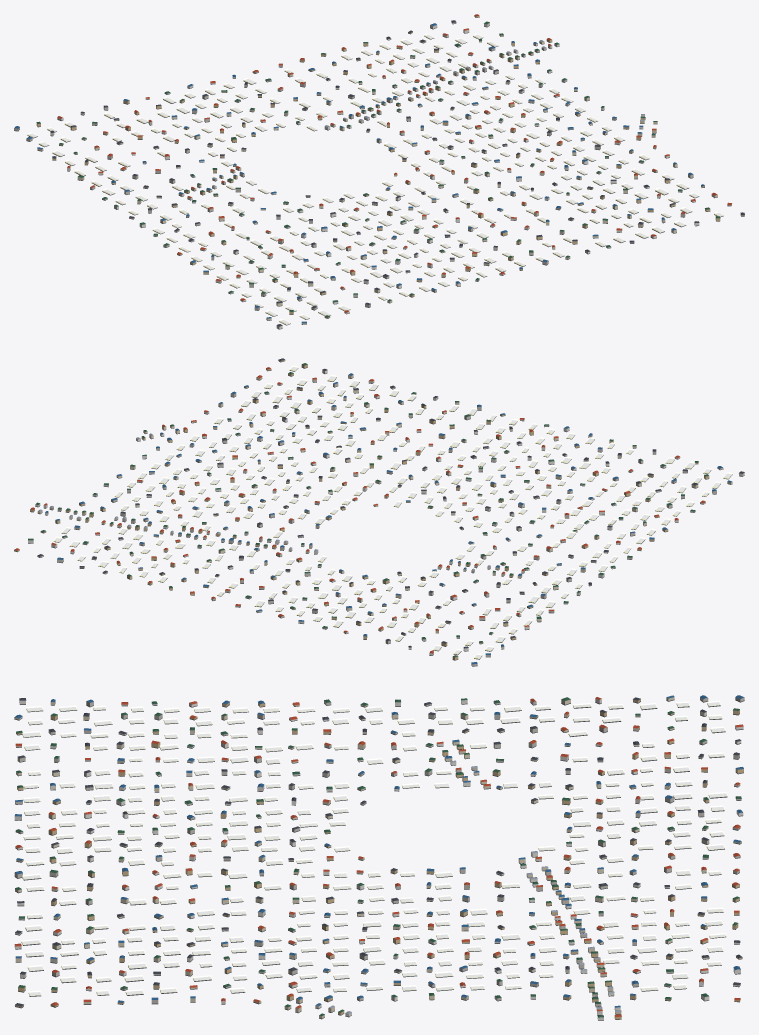
The model's file is buildings_T_W07_N07.glb.
The picture shows the model from 3 angles, top to bottom: view 1: azimuth 30°, elevation 25°; view 2: azimuth 150°, elevation 25°; view 3: azimuth 270°, elevation 25°; orthographic projection. The views are drawn at different scales.
Visible parts, largest first — view 1: T_W07_N07_roofs_agri_greenhouse_arch, T_W07_N07_slope_seating_foundations, T_W07_N07_walls_wall_french_ochre_villa, T_W07_N07_walls_wall_dalat_cream_stucco, T_W07_N07_walls_wall_pastel_sand_gray, T_W07_N07_walls_wall_modern_warm_white, T_W07_N07_roofs_roof_terracotta_gable, T_W07_N07_roofs_roof_highland_blue_gable, T_W07_N07_roofs_roof_pine_green_hip, T_W07_N07_roofs_roof_slate_French_villa_hip; view 2: T_W07_N07_roofs_agri_greenhouse_arch, T_W07_N07_slope_seating_foundations, T_W07_N07_walls_wall_french_ochre_villa, T_W07_N07_walls_wall_dalat_cream_stucco, T_W07_N07_walls_wall_pastel_sand_gray, T_W07_N07_walls_wall_modern_warm_white, T_W07_N07_roofs_roof_terracotta_gable, T_W07_N07_roofs_roof_highland_blue_gable, T_W07_N07_roofs_roof_pine_green_hip, T_W07_N07_roofs_roof_slate_French_villa_hip; view 3: T_W07_N07_roofs_agri_greenhouse_arch, T_W07_N07_slope_seating_foundations, T_W07_N07_walls_wall_french_ochre_villa, T_W07_N07_walls_wall_dalat_cream_stucco, T_W07_N07_walls_wall_pastel_sand_gray, T_W07_N07_walls_wall_modern_warm_white, T_W07_N07_roofs_roof_terracotta_gable, T_W07_N07_roofs_roof_highland_blue_gable, T_W07_N07_roofs_roof_pine_green_hip, T_W07_N07_roofs_roof_slate_French_villa_hip.
Part boxes in pixels (x1=…): T_W07_N07_roofs_agri_greenhouse_arch: x1=27, y1=33, x2=723, y2=324; T_W07_N07_slope_seating_foundations: x1=14, y1=16, x2=744, y2=329; T_W07_N07_walls_wall_french_ochre_villa: x1=36, y1=15, x2=744, y2=318; T_W07_N07_walls_wall_dalat_cream_stucco: x1=37, y1=41, x2=717, y2=324; T_W07_N07_walls_wall_pastel_sand_gray: x1=14, y1=41, x2=693, y2=310; T_W07_N07_walls_wall_modern_warm_white: x1=50, y1=22, x2=699, y2=329; T_W07_N07_roofs_roof_terracotta_gable: x1=57, y1=14, x2=731, y2=312; T_W07_N07_roofs_roof_highland_blue_gable: x1=14, y1=23, x2=704, y2=323; T_W07_N07_roofs_roof_pine_green_hip: x1=36, y1=21, x2=720, y2=317; T_W07_N07_roofs_roof_slate_French_villa_hip: x1=50, y1=20, x2=744, y2=326; T_W07_N07_roofs_agri_greenhouse_arch: x1=53, y1=365, x2=732, y2=658; T_W07_N07_slope_seating_foundations: x1=14, y1=361, x2=744, y2=666; T_W07_N07_walls_wall_french_ochre_villa: x1=14, y1=360, x2=709, y2=659; T_W07_N07_walls_wall_dalat_cream_stucco: x1=37, y1=374, x2=732, y2=648; T_W07_N07_walls_wall_pastel_sand_gray: x1=49, y1=378, x2=716, y2=666; T_W07_N07_walls_wall_modern_warm_white: x1=28, y1=370, x2=744, y2=655; T_W07_N07_roofs_roof_terracotta_gable: x1=14, y1=367, x2=705, y2=653; T_W07_N07_roofs_roof_highland_blue_gable: x1=45, y1=373, x2=731, y2=664; T_W07_N07_roofs_roof_pine_green_hip: x1=28, y1=363, x2=708, y2=657; T_W07_N07_roofs_roof_slate_French_villa_hip: x1=37, y1=358, x2=744, y2=648; T_W07_N07_roofs_agri_greenhouse_arch: x1=21, y1=700, x2=727, y2=995; T_W07_N07_slope_seating_foundations: x1=14, y1=699, x2=744, y2=1020; T_W07_N07_walls_wall_french_ochre_villa: x1=15, y1=699, x2=743, y2=1019; T_W07_N07_walls_wall_dalat_cream_stucco: x1=14, y1=697, x2=741, y2=1018; T_W07_N07_walls_wall_pastel_sand_gray: x1=14, y1=697, x2=744, y2=1009; T_W07_N07_walls_wall_modern_warm_white: x1=14, y1=698, x2=743, y2=1019; T_W07_N07_roofs_roof_terracotta_gable: x1=15, y1=697, x2=743, y2=1016; T_W07_N07_roofs_roof_highland_blue_gable: x1=14, y1=695, x2=744, y2=1007; T_W07_N07_roofs_roof_pine_green_hip: x1=15, y1=697, x2=741, y2=1017; T_W07_N07_roofs_roof_slate_French_villa_hip: x1=15, y1=697, x2=742, y2=1006.
Bounding box in the file's own units: 1861 × 37.84 × 1755.
